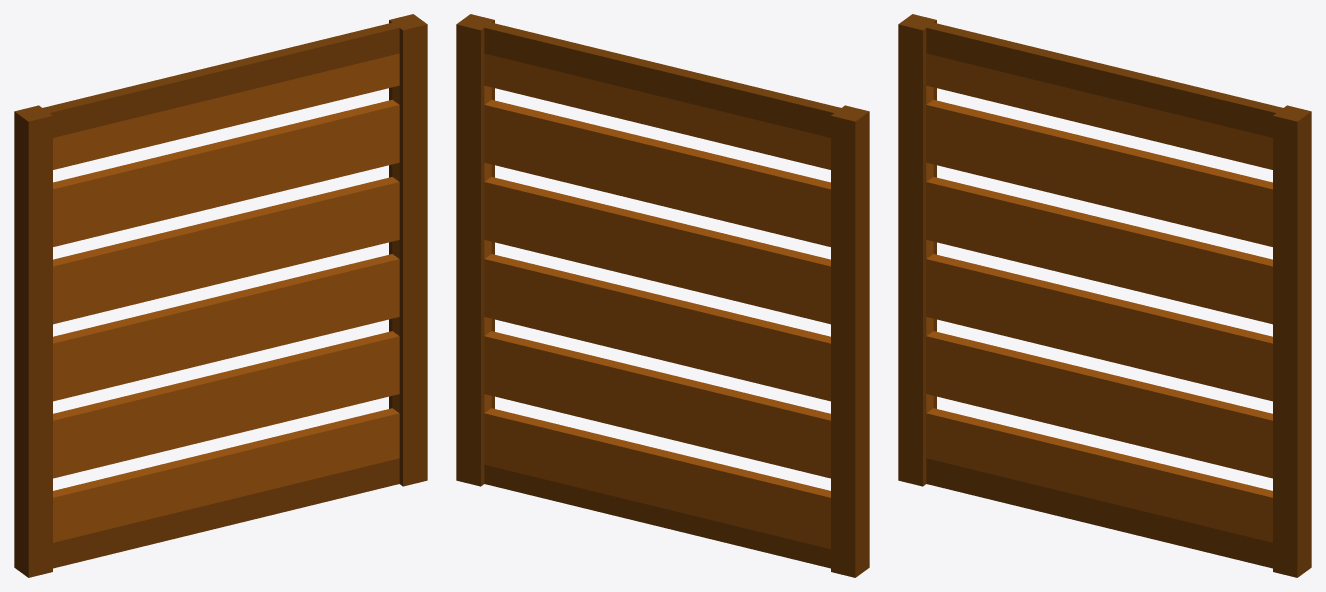
The model's file is wood wall.obj.
The picture shows the model from 3 angles, left to right: view 1: azimuth 30°, elevation 25°; view 2: azimuth 150°, elevation 25°; view 3: azimuth 330°, elevation 25°; orthographic projection.
Parts seen in each view (by area): view 1: wood wall; view 2: wood wall; view 3: wood wall.
Boxes of the visible parts, box(x1,y1,x2,y2) form: wood wall: box(14, 14, 427, 577); wood wall: box(456, 14, 869, 577); wood wall: box(898, 14, 1311, 577).
Size of the model in its own units: 65 by 71 by 4.
Materials: 1 (1 with a texture image).
